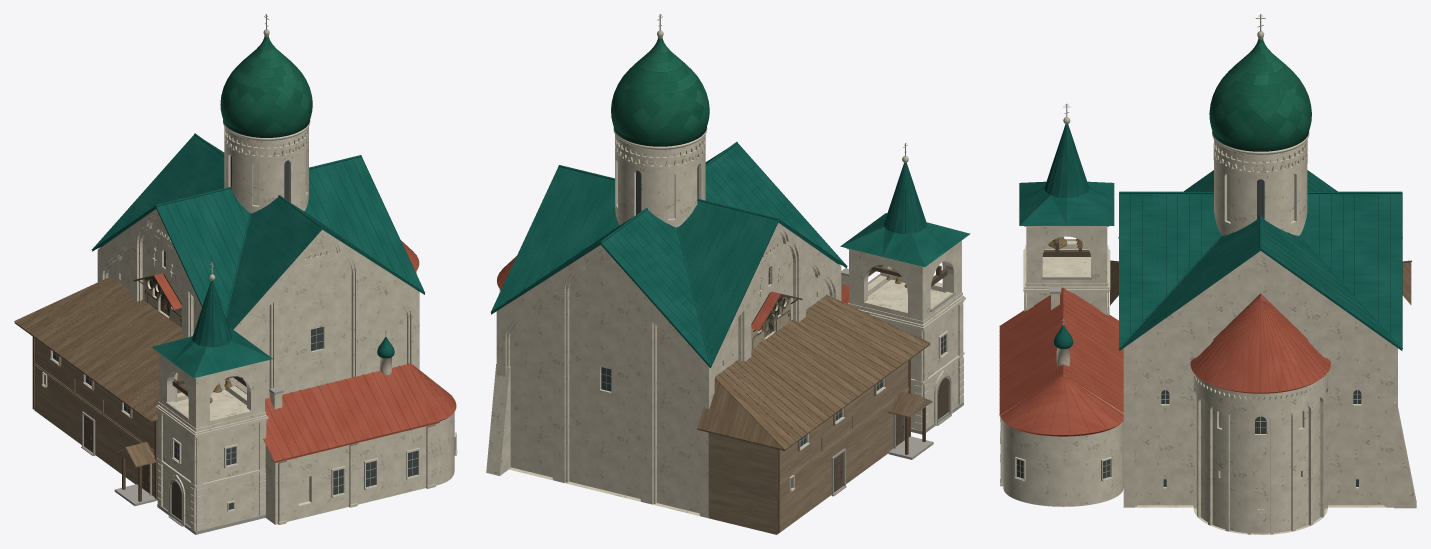
Rendered from Peter_Paul_Kozhevniki_XIX_v8.glb.
The picture shows the model from 3 angles, left to right: view 1: azimuth 30°, elevation 25°; view 2: azimuth 150°, elevation 25°; view 3: azimuth 270°, elevation 25°; orthographic projection. The views are drawn at different scales.
Parts seen in each view (by area): view 1: 01 Четверик • утопленные прясла и лопатки; view 2: 01 Четверик • утопленные прясла и лопатки; view 3: 01 Четверик • утопленные прясла и лопатки.
Part boxes in pixels (left/top/right/bottom): 01 Четверик • утопленные прясла и лопатки: left=14, top=14, right=457, bottom=534; 01 Четверик • утопленные прясла и лопатки: left=486, top=14, right=970, bottom=534; 01 Четверик • утопленные прясла и лопатки: left=999, top=14, right=1416, bottom=534.
Bounding box in the file's own units: 21.79 × 24.68 × 20.98.
15 materials, 8 textured.
